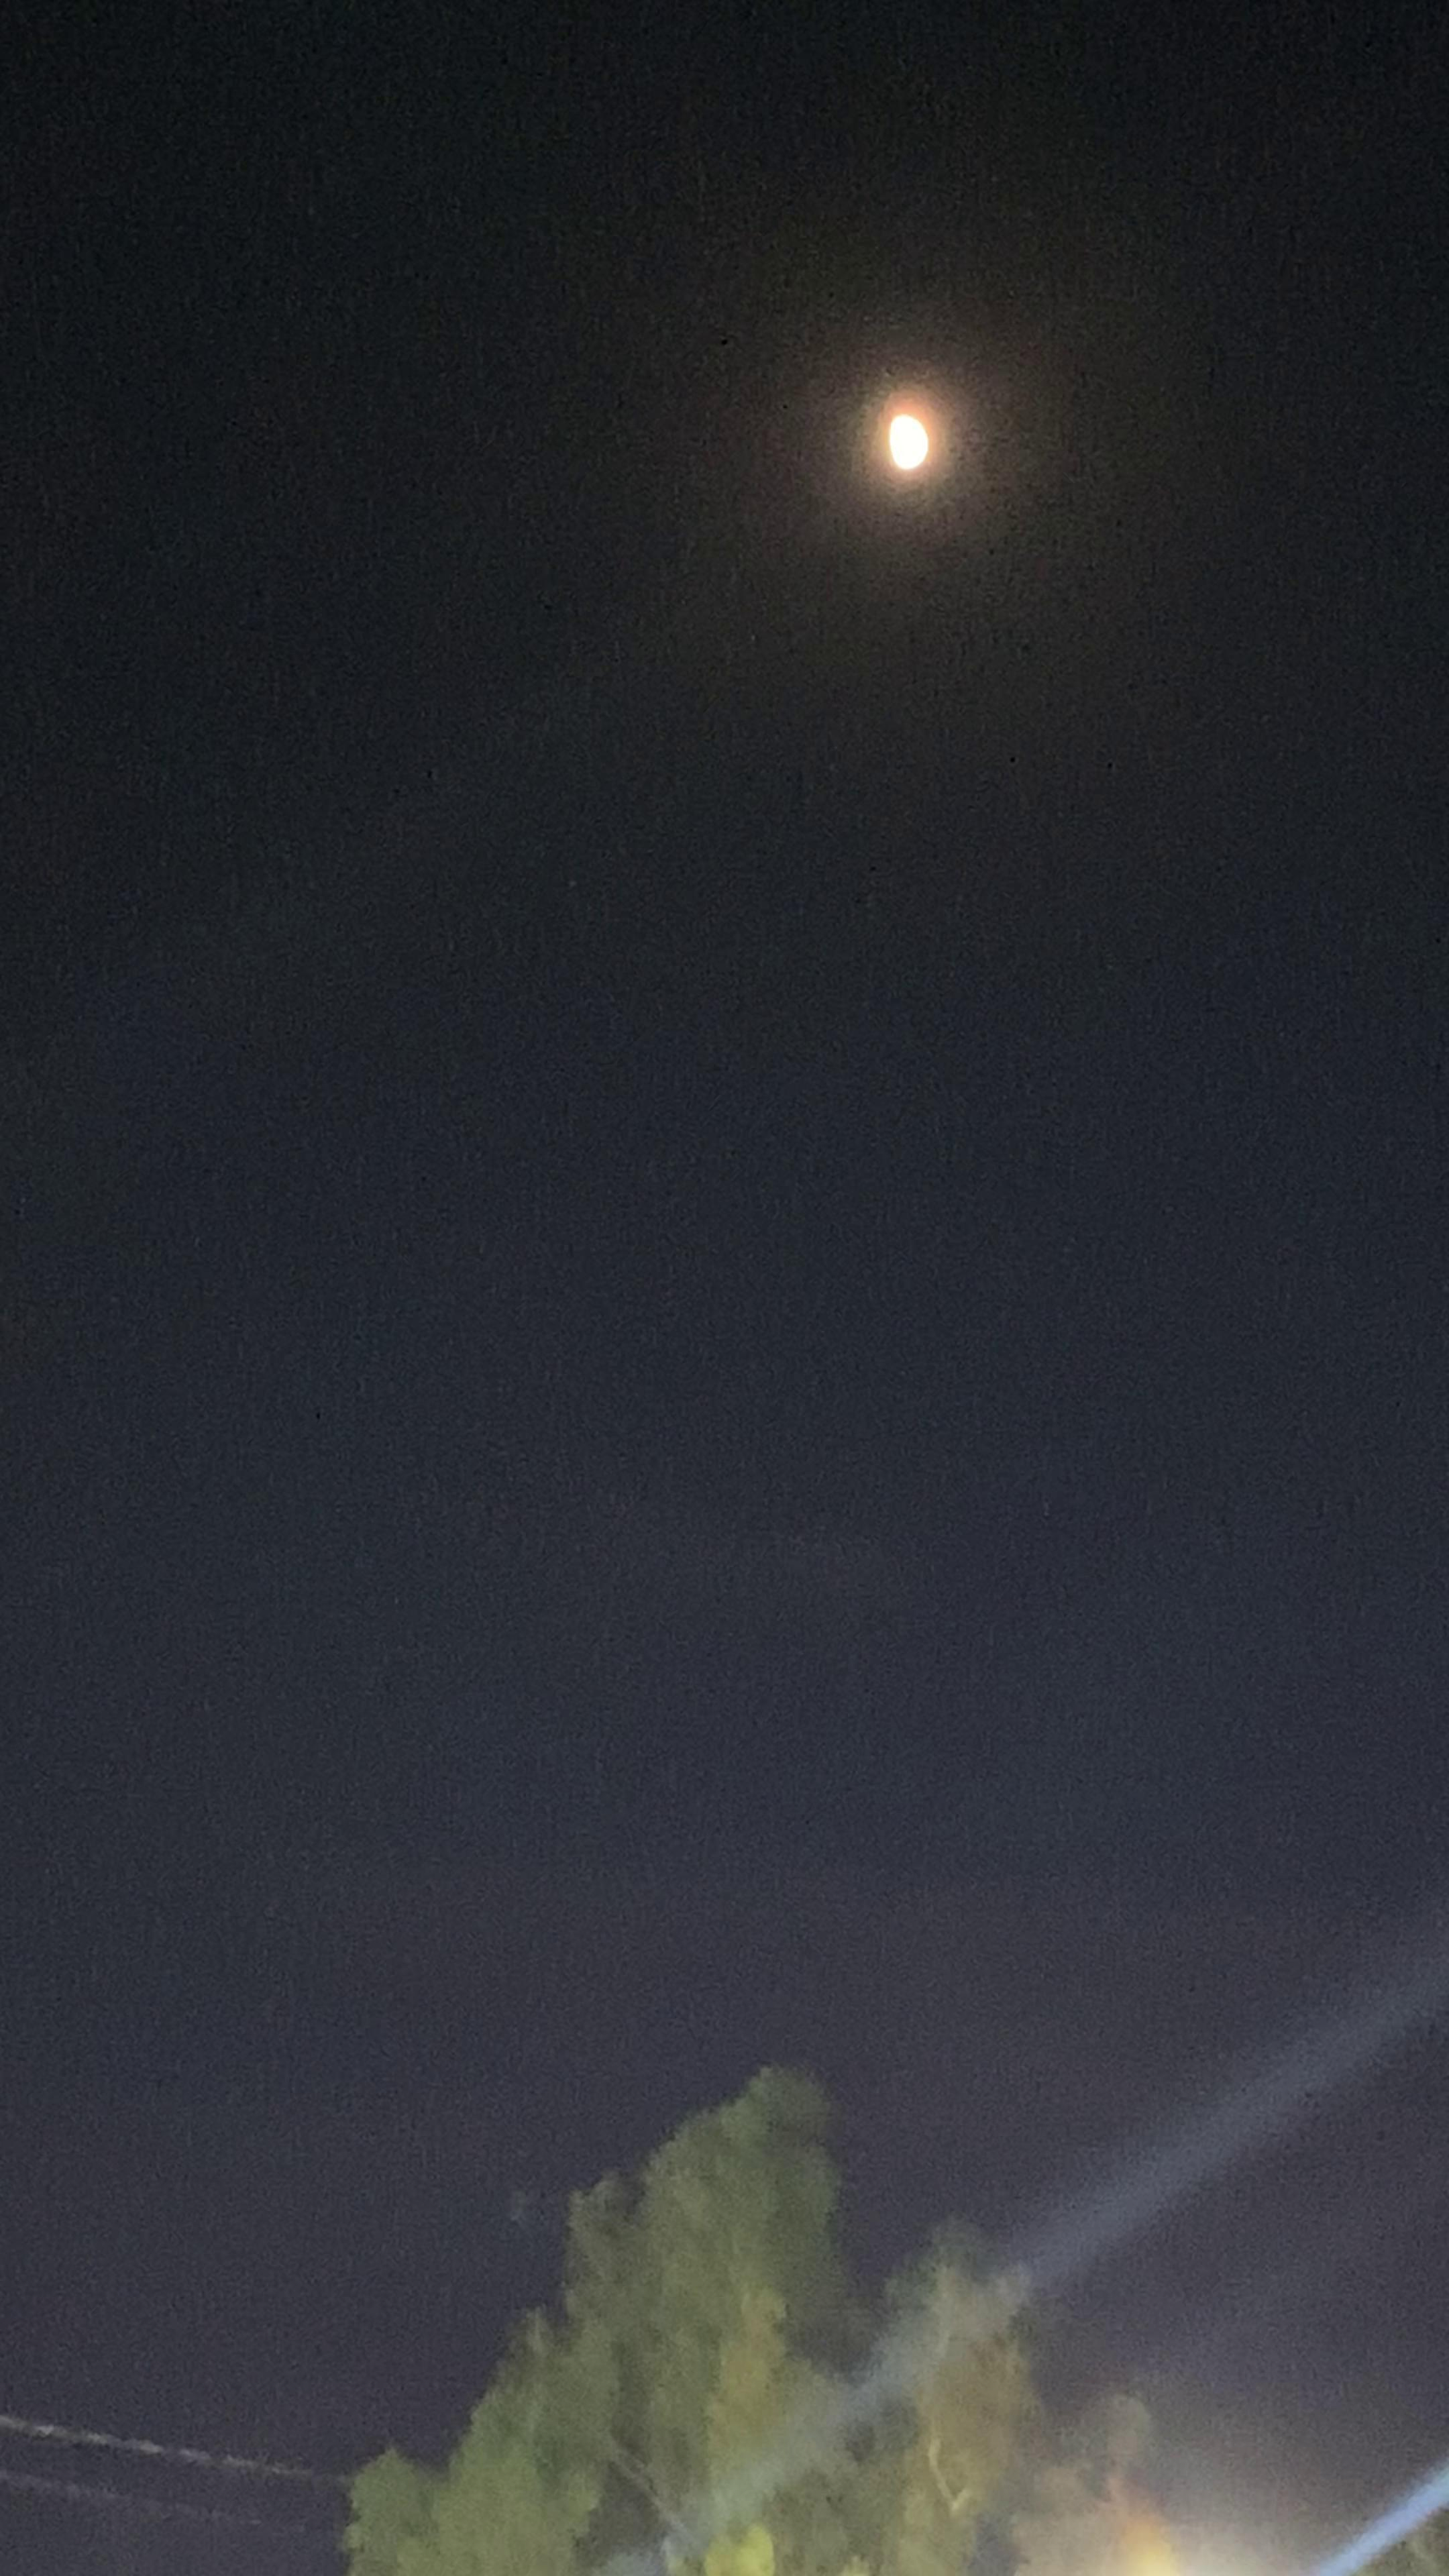moon: (833, 366, 950, 494)
